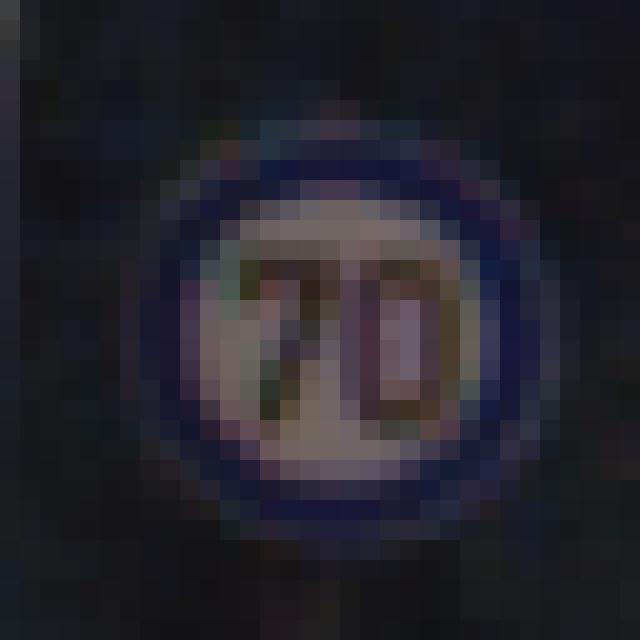SPEED LIMIT 70: (119, 129, 578, 536)
